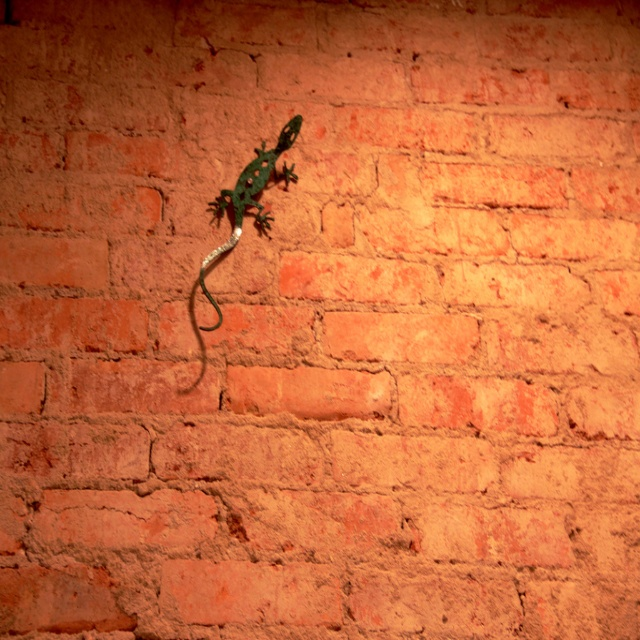Lizard: (188, 113, 303, 393)
